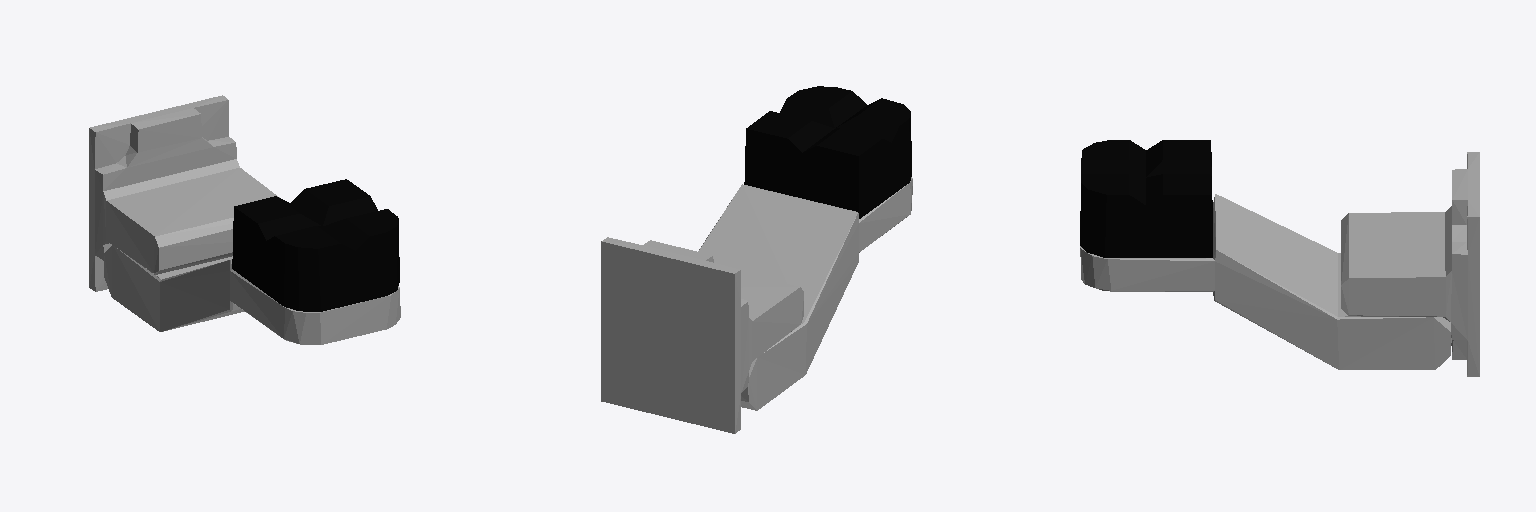
Rendered from panda_right_rightfinger_geometry_panda_rightfinger.obj.
3 renders of one model, left to right at view 1: azimuth 30°, elevation 25°; view 2: azimuth 150°, elevation 25°; view 3: azimuth 270°, elevation 25°, orthographic.
Bounding box in the file's own units: 0.021 × 0.0264 × 0.0538.